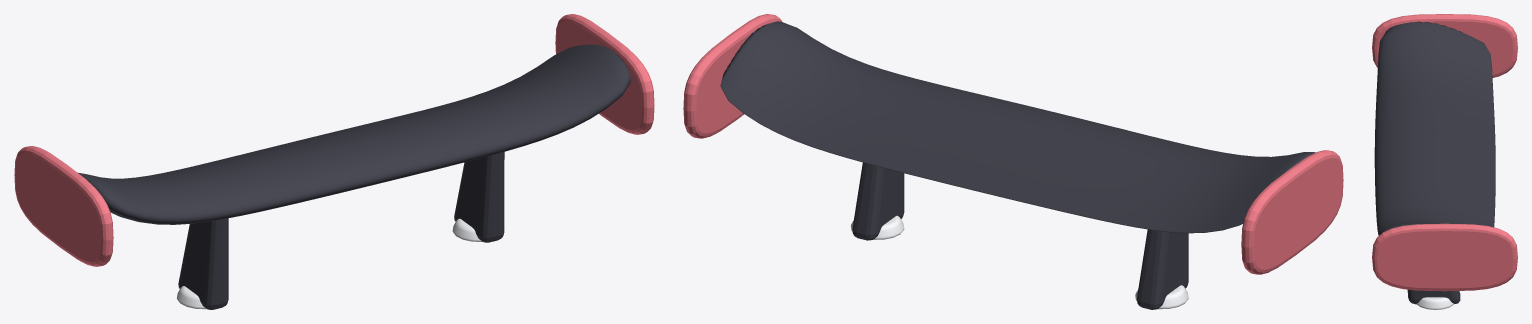
Rendered from spoiler-spor.glb.
3 views of the same model, side by side, from view 1: azimuth 30°, elevation 25°; view 2: azimuth 150°, elevation 25°; view 3: azimuth 270°, elevation 25° (orthographic). The views are drawn at different scales.
Visible parts, largest first — view 1: wing, plate-1, plate1, post-1, post1; view 2: wing, plate-1, plate1, post-1, post1, pad-1, pad1; view 3: wing, plate1, plate-1, post1, pad1.
Boxes of the visible parts, bbox=[...] form: wing: bbox=[78, 44, 630, 224]; plate-1: bbox=[14, 146, 113, 266]; plate1: bbox=[555, 14, 654, 134]; post-1: bbox=[178, 218, 228, 309]; post1: bbox=[454, 152, 504, 242]; wing: bbox=[720, 21, 1315, 233]; plate-1: bbox=[1241, 150, 1343, 274]; plate1: bbox=[683, 14, 782, 138]; post-1: bbox=[1137, 229, 1188, 309]; post1: bbox=[852, 162, 904, 240]; pad-1: bbox=[1135, 285, 1188, 309]; pad1: bbox=[850, 216, 904, 239]; wing: bbox=[1374, 21, 1495, 235]; plate1: bbox=[1372, 223, 1517, 291]; plate-1: bbox=[1372, 14, 1517, 77]; post1: bbox=[1407, 289, 1460, 304]; pad1: bbox=[1416, 297, 1453, 309].
Bounding box in the file's own units: 1.04 × 0.292 × 0.3.
